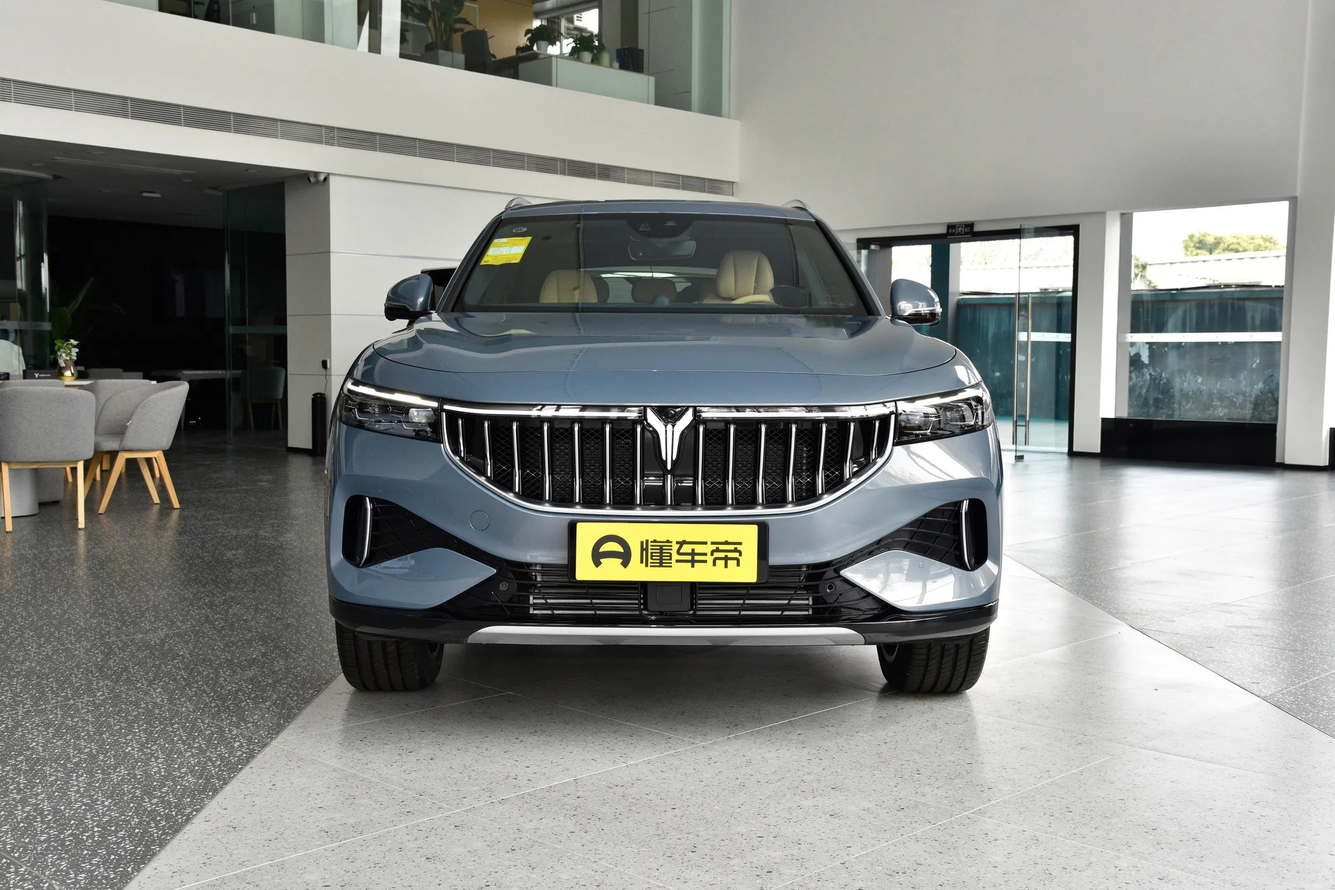VOYAH: (647, 408, 691, 469)
